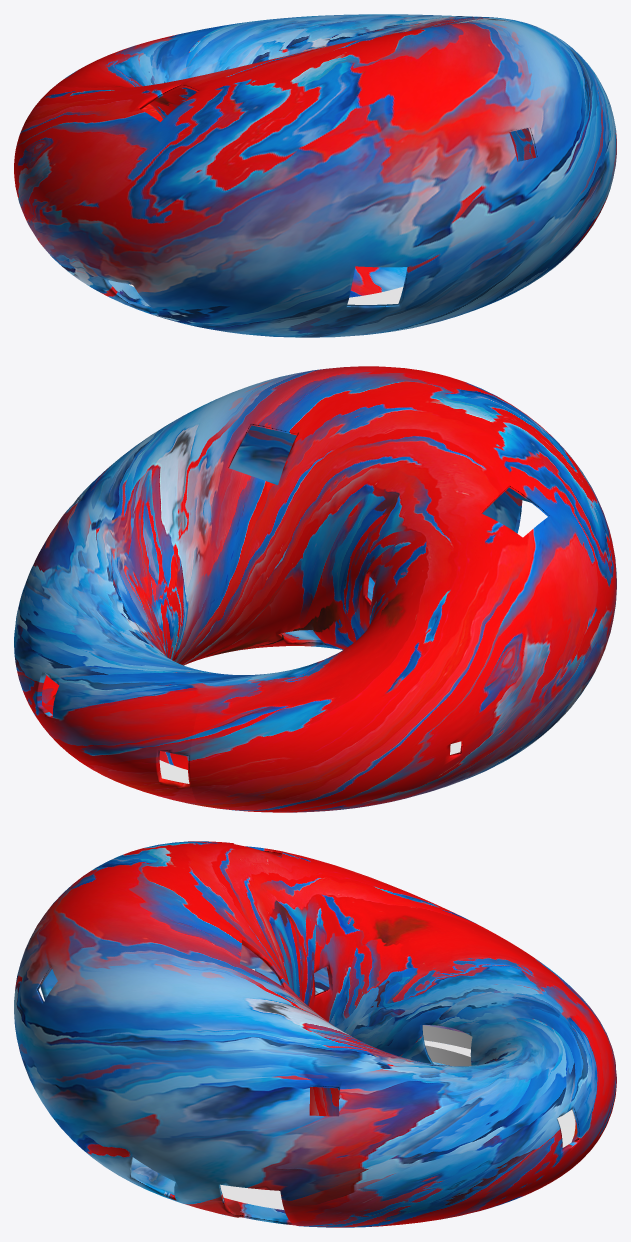
3 views of the same model, one above another, from view 1: azimuth 30°, elevation 25°; view 2: azimuth 150°, elevation 25°; view 3: azimuth 270°, elevation 25° (orthographic). The views are drawn at different scales.
Visible parts, largest first — view 1: Solids, Ramps_2; view 2: Solids; view 3: Solids, Ramps_2, Ramps.
Part boxes in pixels (x1,y1,x2,y2): Solids: (14, 14, 616, 337); Ramps_2: (129, 284, 403, 304); Solids: (14, 366, 616, 812); Solids: (14, 841, 616, 1227); Ramps_2: (220, 1040, 575, 1209); Ramps: (422, 1025, 575, 1125).
Size of the model in its own units: 52.13 by 25.54 by 54.94.
2 materials, 2 textured.
